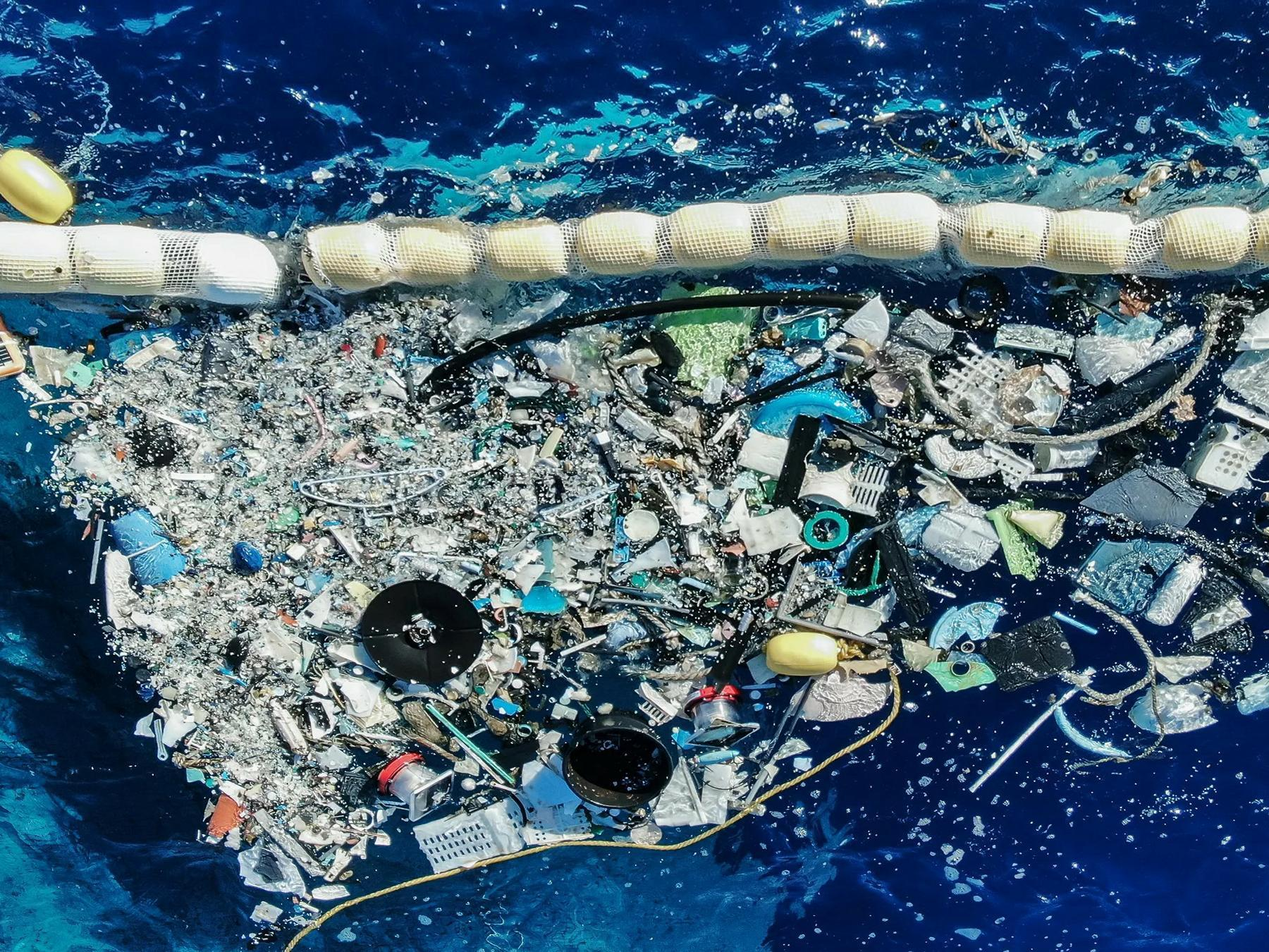Plastic Pollution: (67, 332, 1269, 767)
